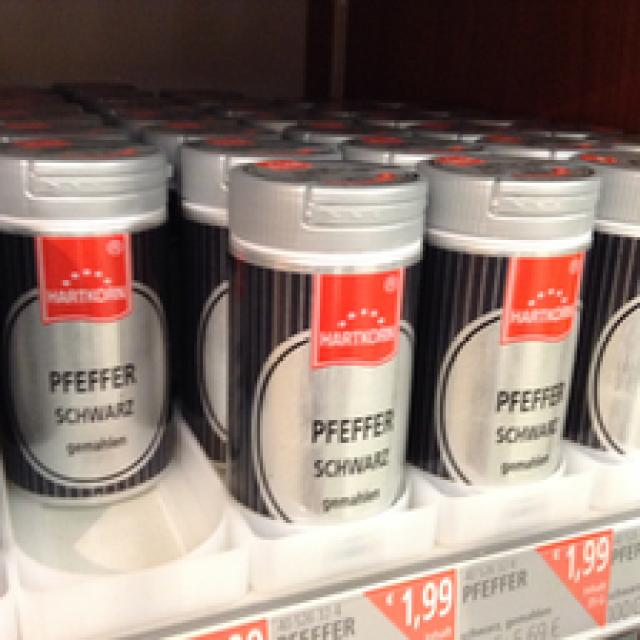groceries: (226, 154, 428, 523), (409, 149, 600, 480), (0, 137, 166, 506)
